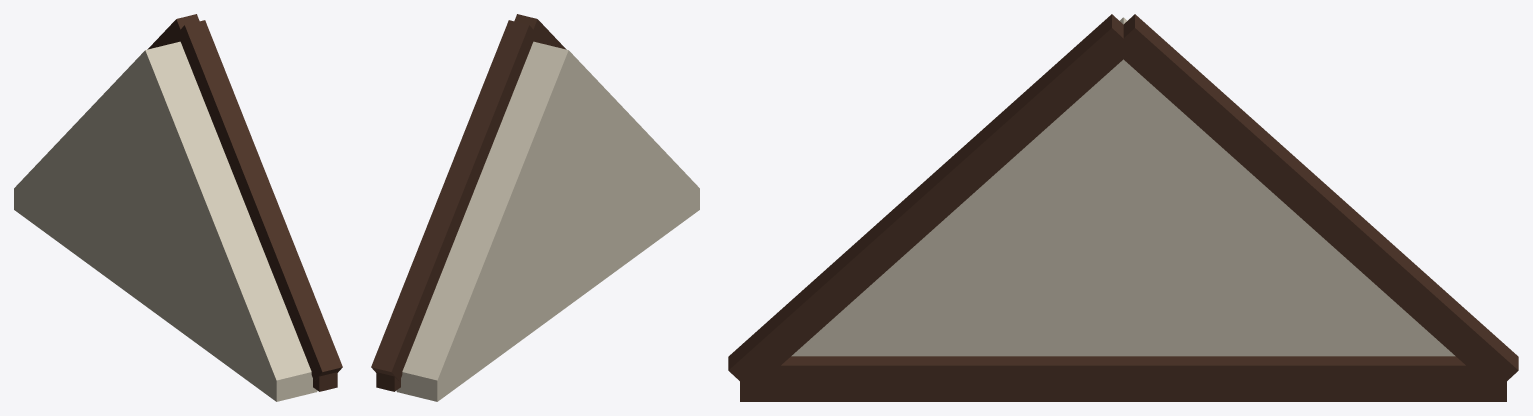
Rendered from GableEnd__Plain.fbx.
3 renders of one model, left to right at view 1: azimuth 30°, elevation 25°; view 2: azimuth 150°, elevation 25°; view 3: azimuth 270°, elevation 25°, orthographic. The views are drawn at different scales.
Visible parts, largest first — view 1: GableEnd__Plain; view 2: GableEnd__Plain; view 3: GableEnd__Plain.
Part boxes in pixels (x1=…): GableEnd__Plain: x1=14, y1=14, x2=342, y2=401; GableEnd__Plain: x1=371, y1=14, x2=699, y2=401; GableEnd__Plain: x1=728, y1=14, x2=1518, y2=401.
Size of the model in its own units: 49 by 231 by 433.
1 material, 1 textured.
